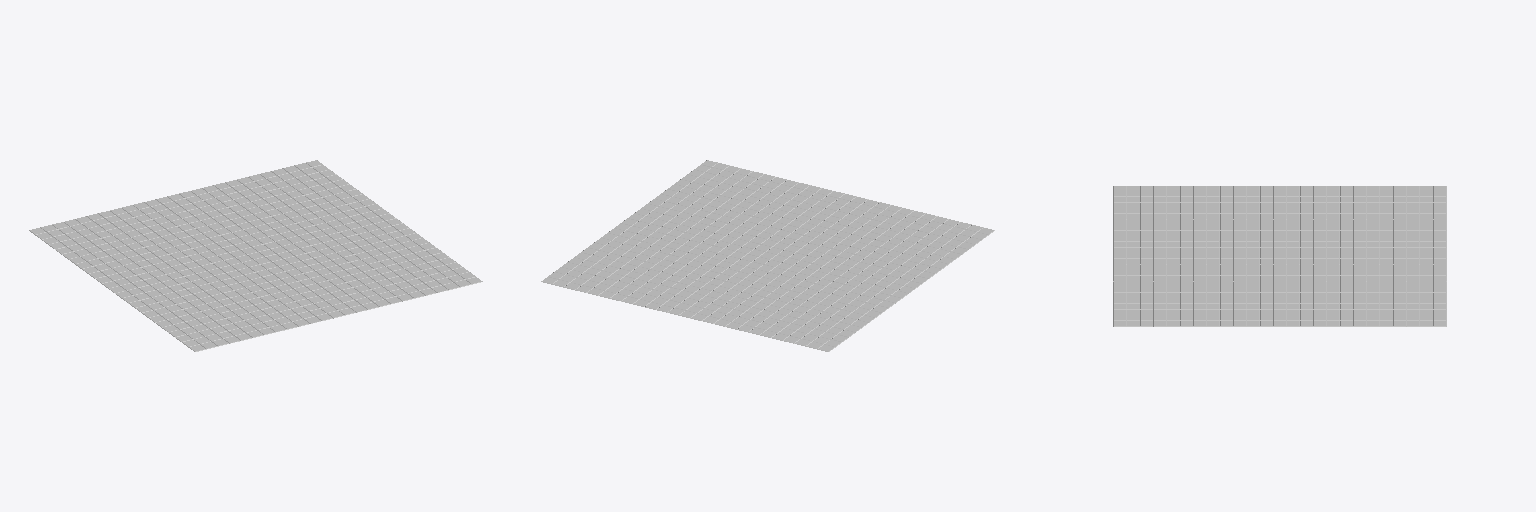
Rendered from tile.obj.
The picture shows the model from 3 angles: view 1: azimuth 30°, elevation 25°; view 2: azimuth 150°, elevation 25°; view 3: azimuth 270°, elevation 25°; orthographic projection.
Visible parts, largest first — view 1: Cube; view 2: Cube; view 3: Cube.
Part boxes in pixels (x1,y1,x2,y2): Cube: (29, 160, 482, 351); Cube: (541, 160, 994, 351); Cube: (1113, 186, 1446, 326).
Bounding box in the file's own units: 50 × 0.068 × 50.